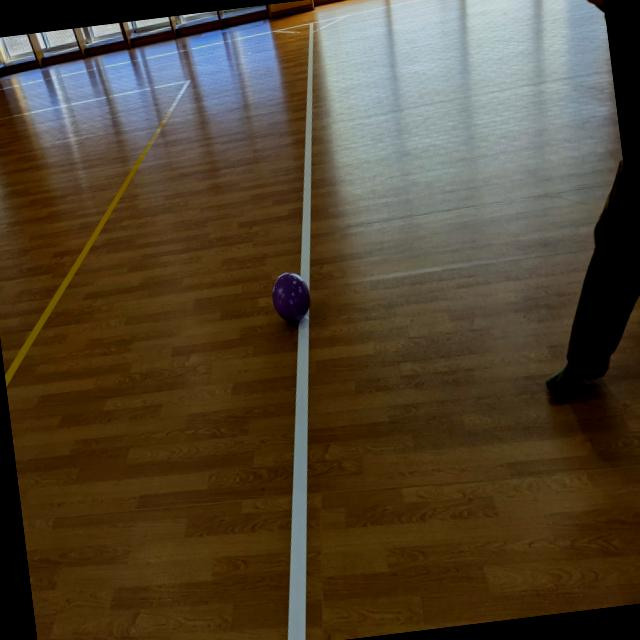purple_ball: (268, 268, 314, 325)
